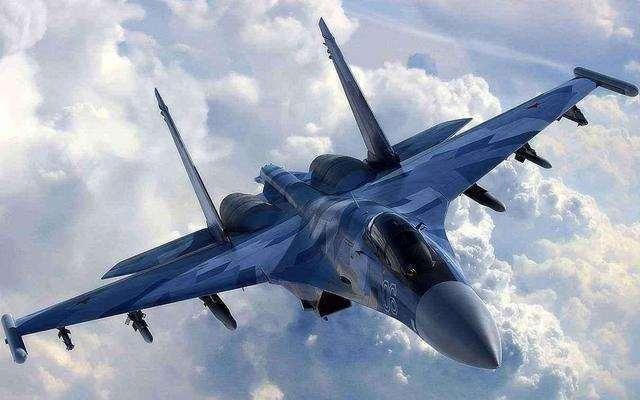airplane: (2, 15, 634, 368)
